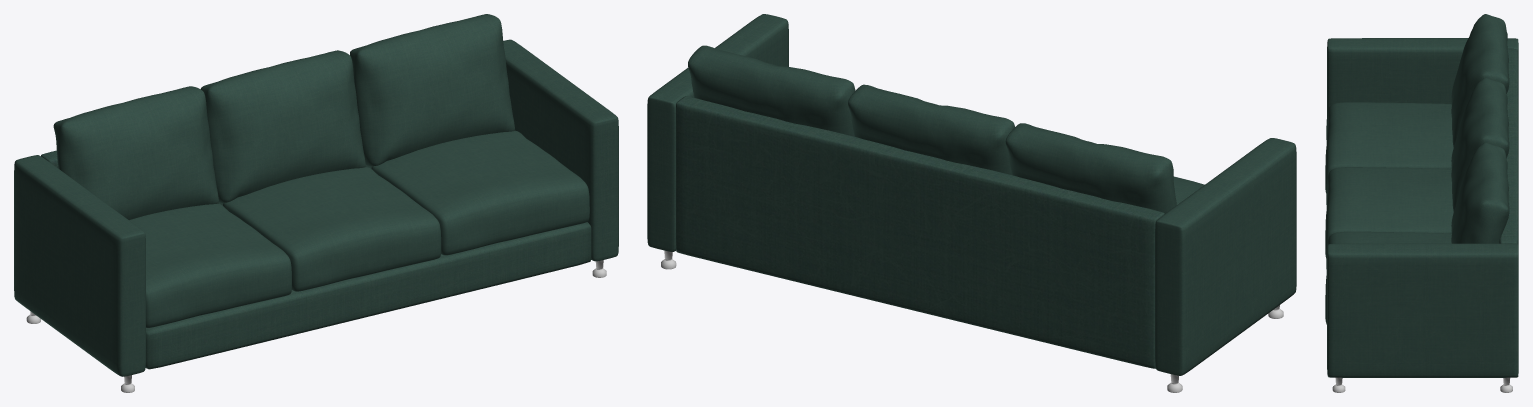
The model's file is p_couch.glb.
3 views of the same model, side by side, from view 1: azimuth 30°, elevation 25°; view 2: azimuth 150°, elevation 25°; view 3: azimuth 270°, elevation 25° (orthographic). The views are drawn at different scales.
Visible parts, largest first — view 1: p_couch; view 2: p_couch; view 3: p_couch.
Part boxes in pixels (box(x1,y1,x2,y2)): p_couch: box(14, 14, 618, 392); p_couch: box(647, 14, 1296, 392); p_couch: box(1325, 14, 1518, 392).
Size of the model in its own units: 1.01 by 0.3916 by 0.3794.
2 materials, 1 textured.
